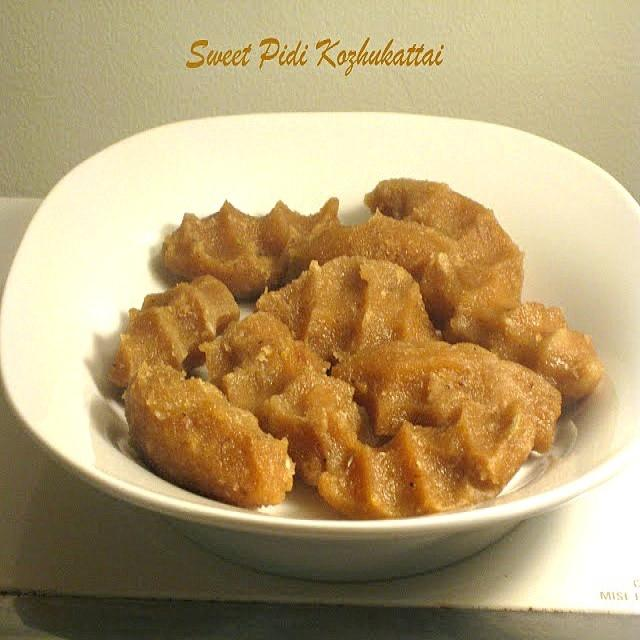pidi kolukattai: (108, 143, 567, 523)
